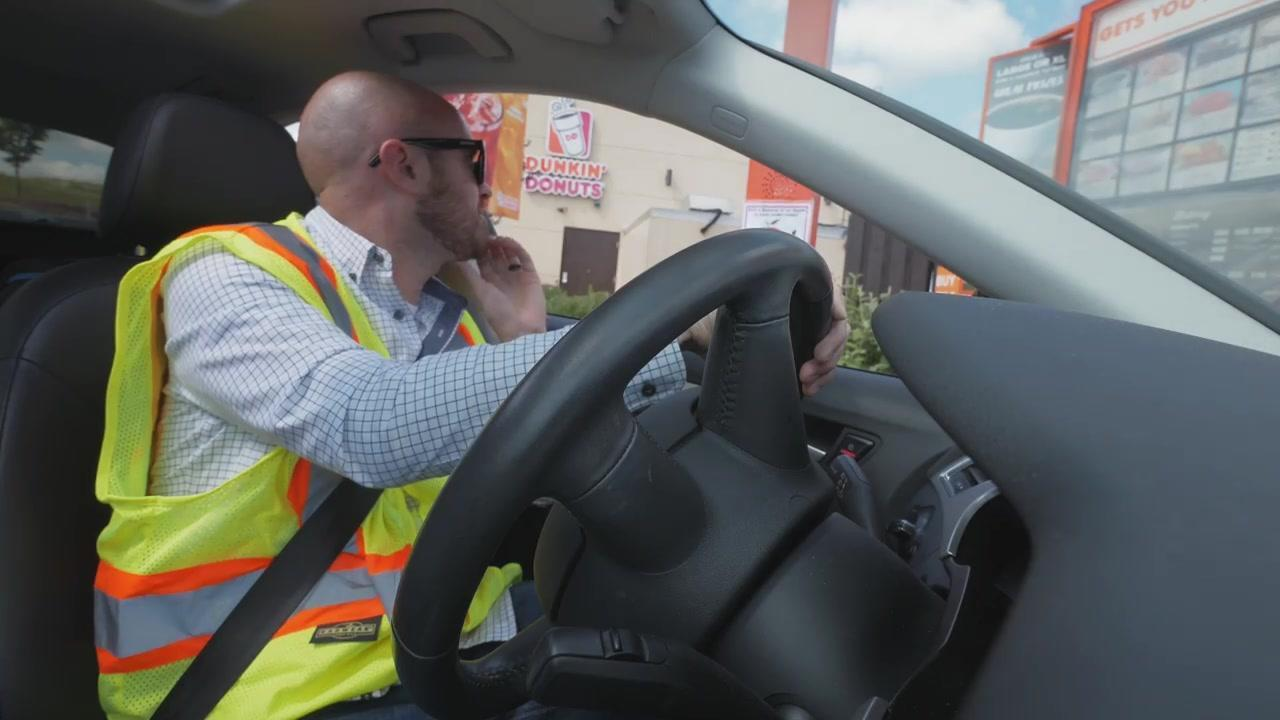vest: (94, 205, 524, 719)
